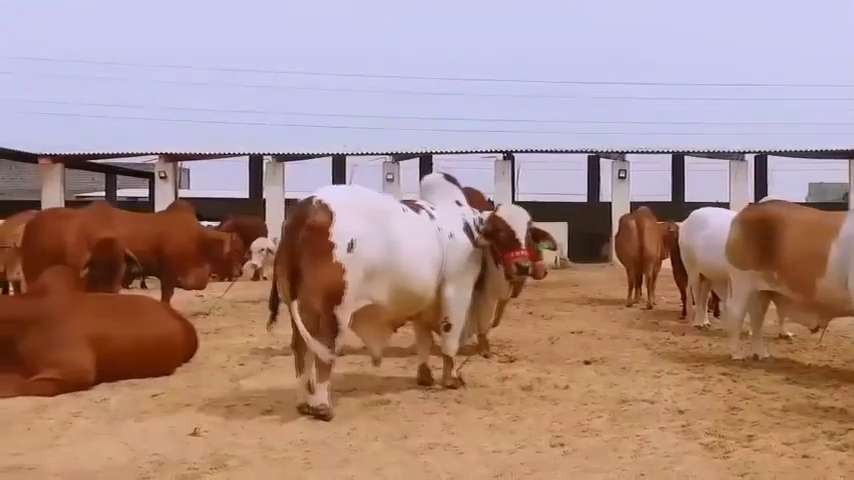bo: (276, 158, 571, 437), (717, 167, 854, 405), (1, 266, 203, 406), (84, 178, 243, 311), (654, 187, 755, 334), (13, 195, 140, 303), (597, 183, 680, 316), (235, 230, 283, 281)
